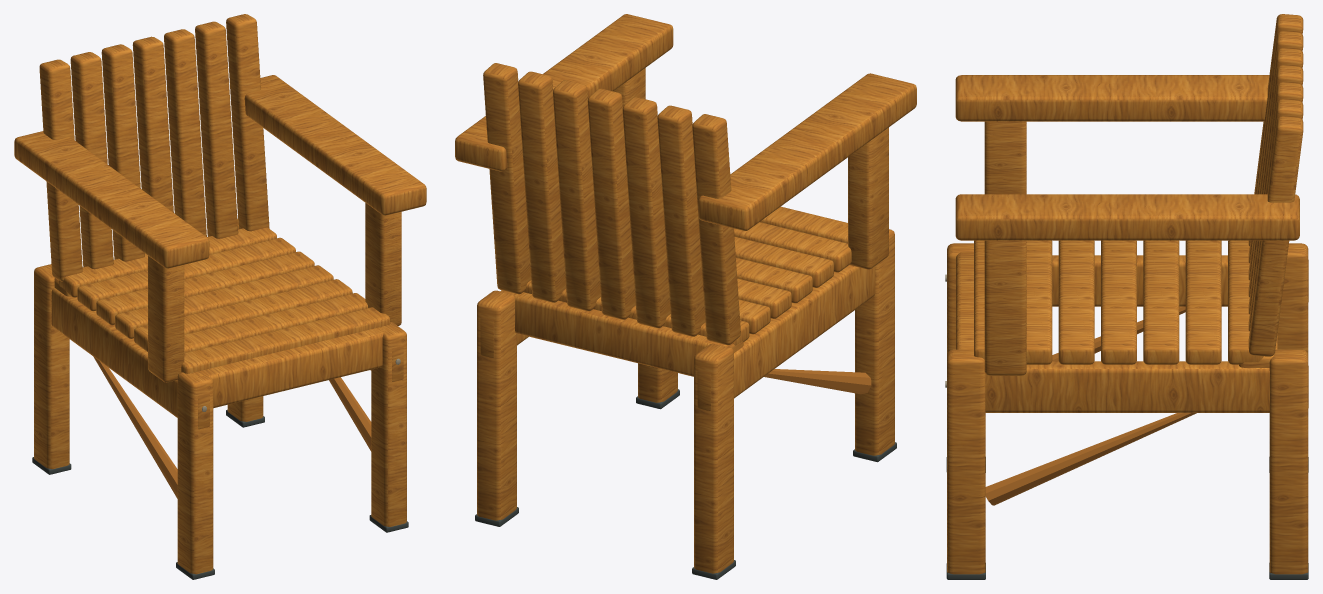
Rendered from patio-dining-chair.glb.
3 renders of one model, left to right at view 1: azimuth 30°, elevation 25°; view 2: azimuth 150°, elevation 25°; view 3: azimuth 270°, elevation 25°, orthographic. The views are drawn at different scales.
Parts seen in each view (by area): view 1: patio-dining-chair; view 2: patio-dining-chair; view 3: patio-dining-chair.
Part boxes in pixels (x1,y1,x2,y2): patio-dining-chair: (14,14,426,579); patio-dining-chair: (455,14,916,579); patio-dining-chair: (945,14,1308,579).
Size of the model in its own units: 0.58 by 0.85 by 0.62.
Materials: 3 (1 with a texture image).
